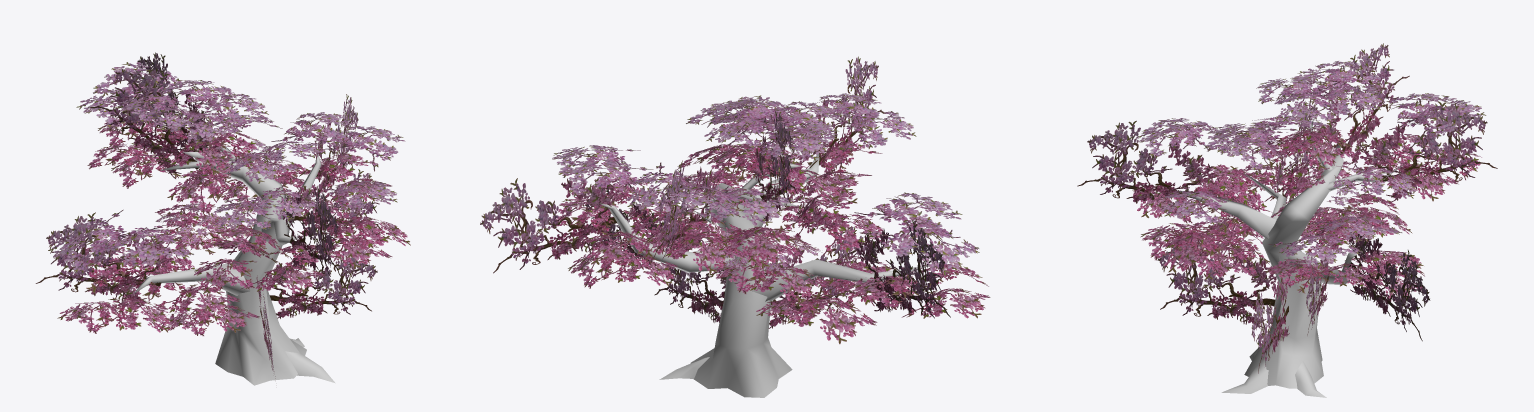
The model's file is environment_Tree_taoshu_001_c.FBX.
3 renders of one model, left to right at view 1: azimuth 30°, elevation 25°; view 2: azimuth 150°, elevation 25°; view 3: azimuth 270°, elevation 25°, orthographic. The views are drawn at different scales.
Parts seen in each view (by area): view 1: environment_Tree_taoshu_001c_02, environment_Tree_taoshu_001c_01; view 2: environment_Tree_taoshu_001c_02, environment_Tree_taoshu_001c_01; view 3: environment_Tree_taoshu_001c_02, environment_Tree_taoshu_001c_01.
Boxes of the visible parts, left/top/right/bottom form: environment_Tree_taoshu_001c_02: left=35, top=52, right=410, bottom=378; environment_Tree_taoshu_001c_01: left=133, top=131, right=335, bottom=385; environment_Tree_taoshu_001c_02: left=480, top=56, right=990, bottom=344; environment_Tree_taoshu_001c_01: left=600, top=153, right=928, bottom=397; environment_Tree_taoshu_001c_02: left=1077, top=43, right=1497, bottom=373; environment_Tree_taoshu_001c_01: left=1178, top=119, right=1404, bottom=397.
Size of the model in its own units: 1628 by 1588 by 1224.
